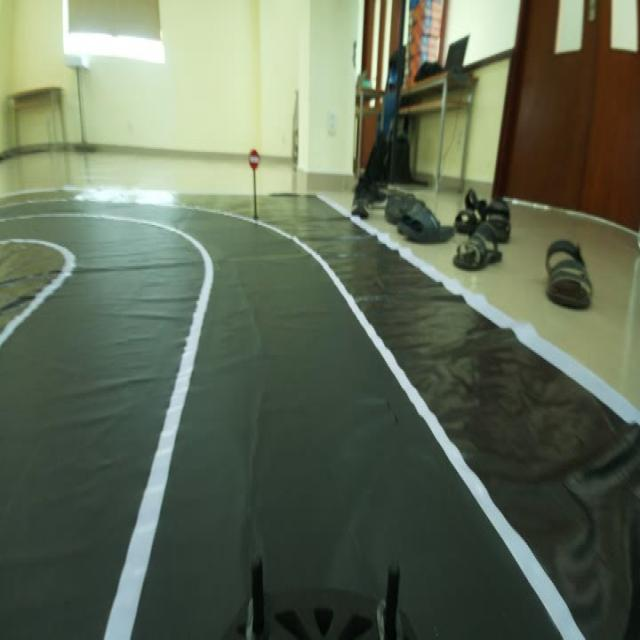no_entry: (244, 149, 260, 173)
